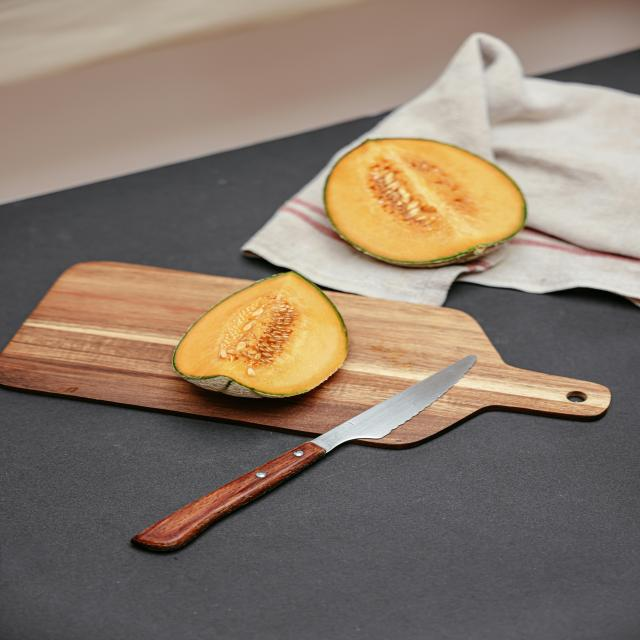knife: (130, 353, 477, 553)
